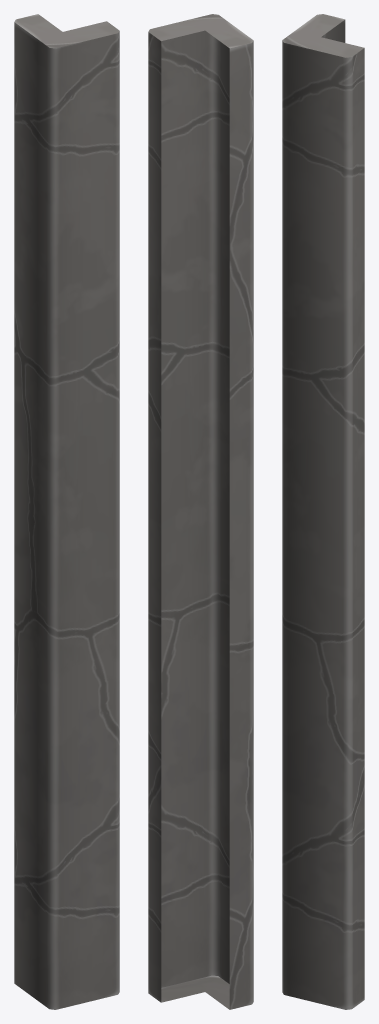
File: PropTrimFacade01_2.FBX
3 renders of one model, left to right at view 1: azimuth 30°, elevation 25°; view 2: azimuth 210°, elevation 25°; view 3: azimuth 330°, elevation 25°, orthographic.
Parts seen in each view (by area): view 1: PropTrimFacade01_2; view 2: PropTrimFacade01_2; view 3: PropTrimFacade01_2.
Boxes of the visible parts, x1,y1,x2,y2 form: PropTrimFacade01_2: [14, 14, 119, 1009]; PropTrimFacade01_2: [148, 14, 253, 1009]; PropTrimFacade01_2: [282, 14, 364, 1009].
Size of what is drawn, in the model's own units: 0.2678 by 3.5 by 0.2618.
